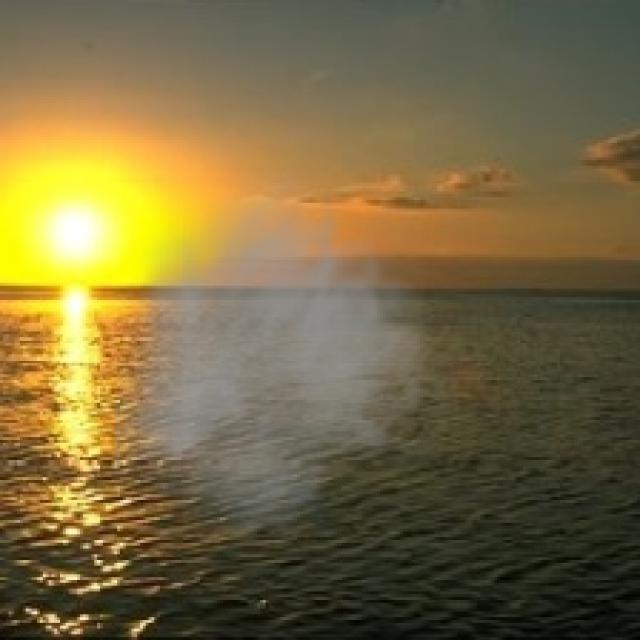smoke: (114, 157, 466, 557)
